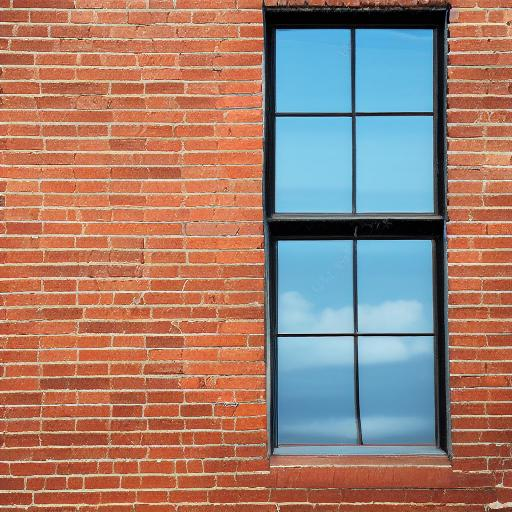Window: (258, 6, 456, 464)
